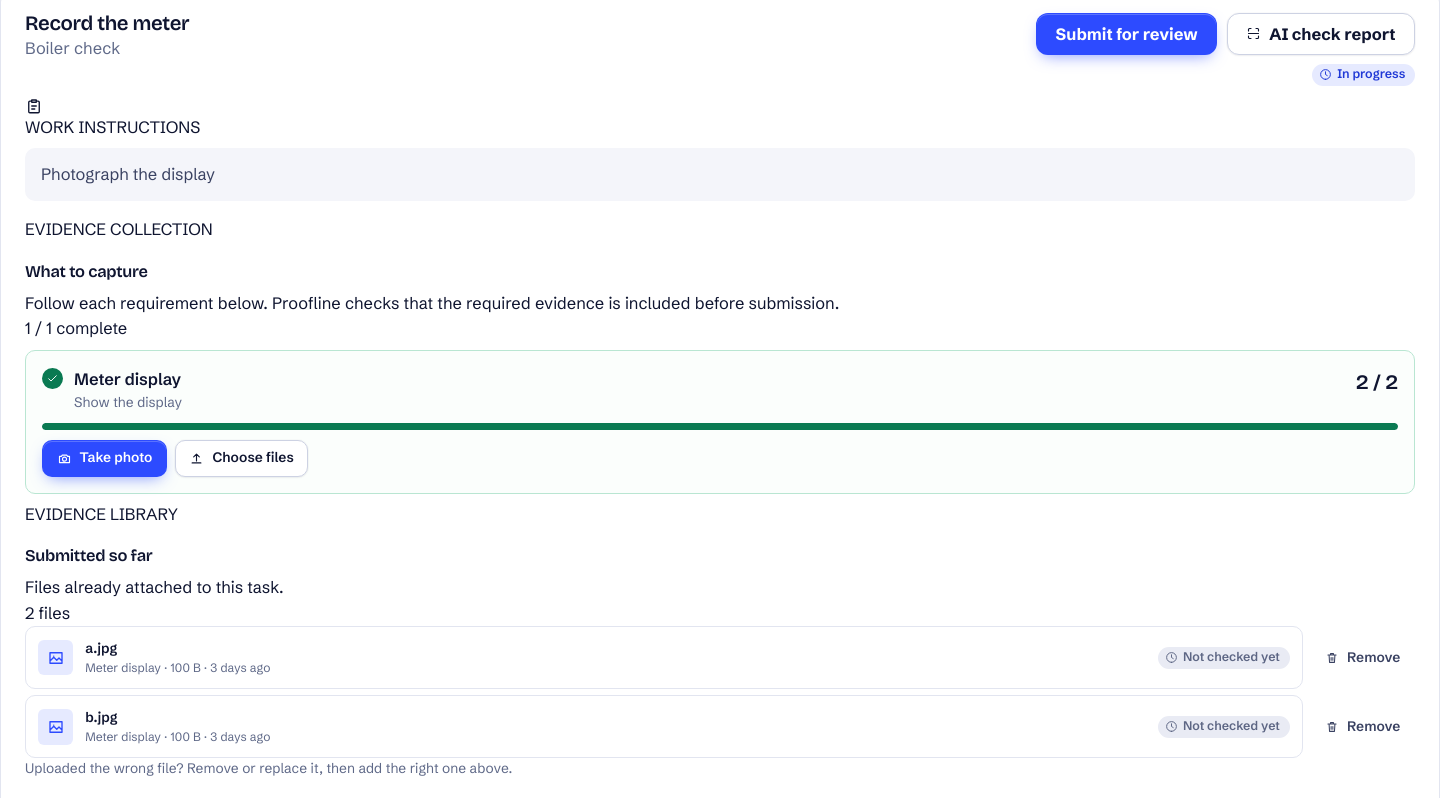
Test: TaskCapture submit rules › shows the server's refusal and does not claim success
Click the button "Submit for review" at [1127, 34], box [1036,13,1217,55]
(page scrolled)
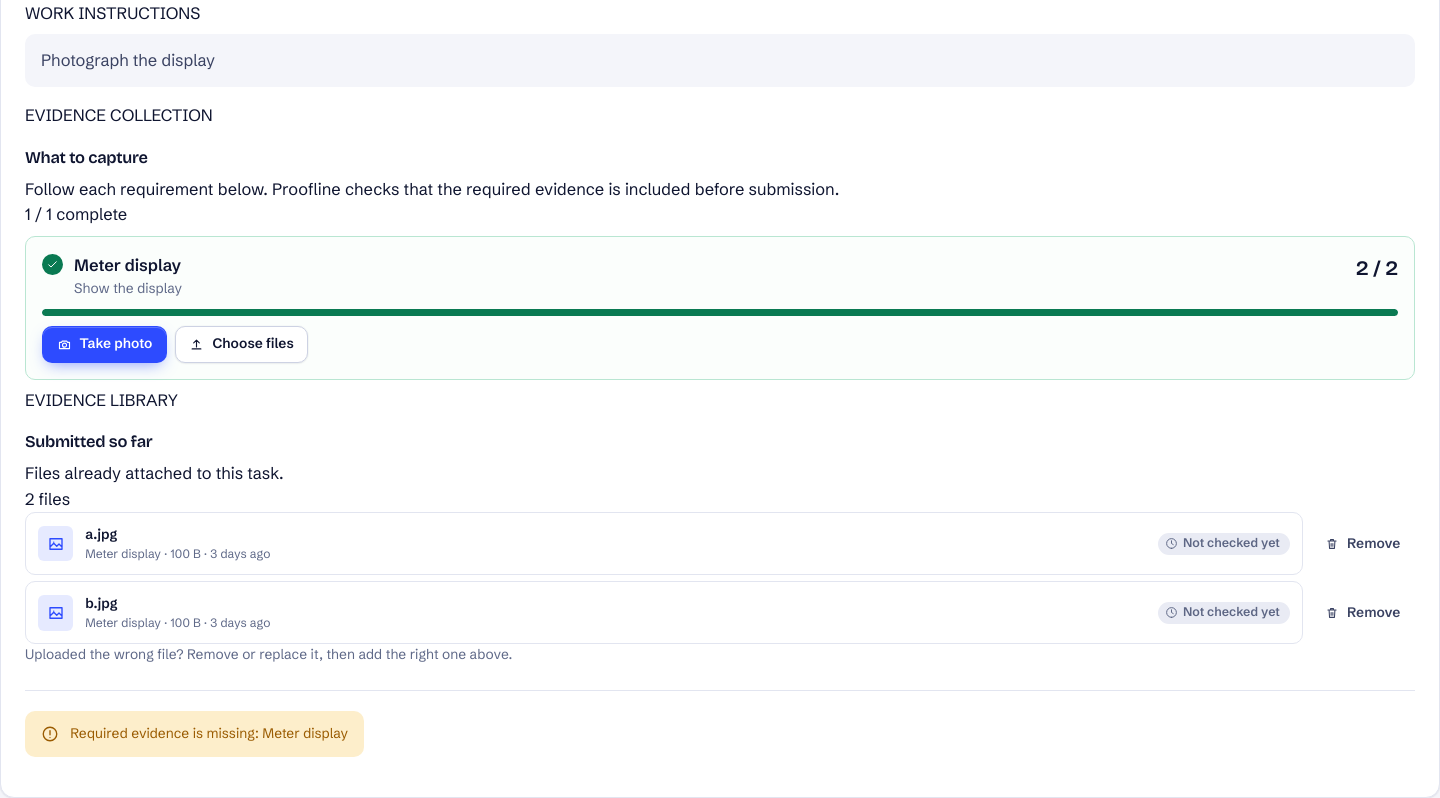
Check: the text "Required evidence is missing: Meter display" is shown, box [70,724,348,744]
